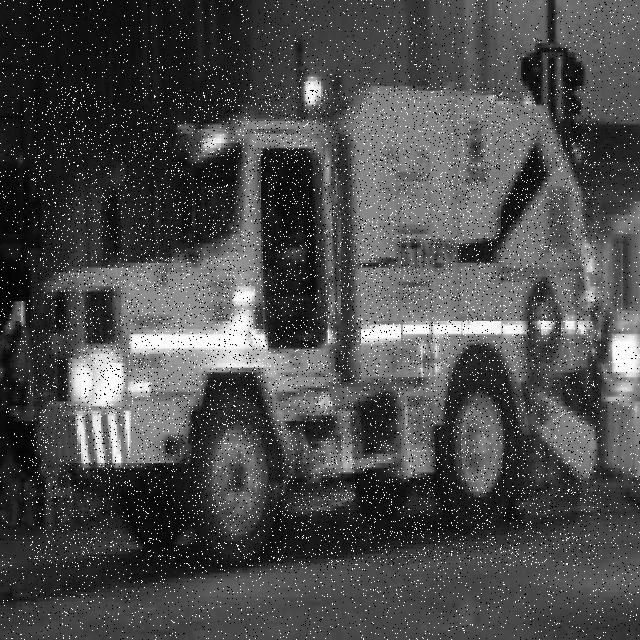Garbage Truck: (32, 87, 599, 566)
